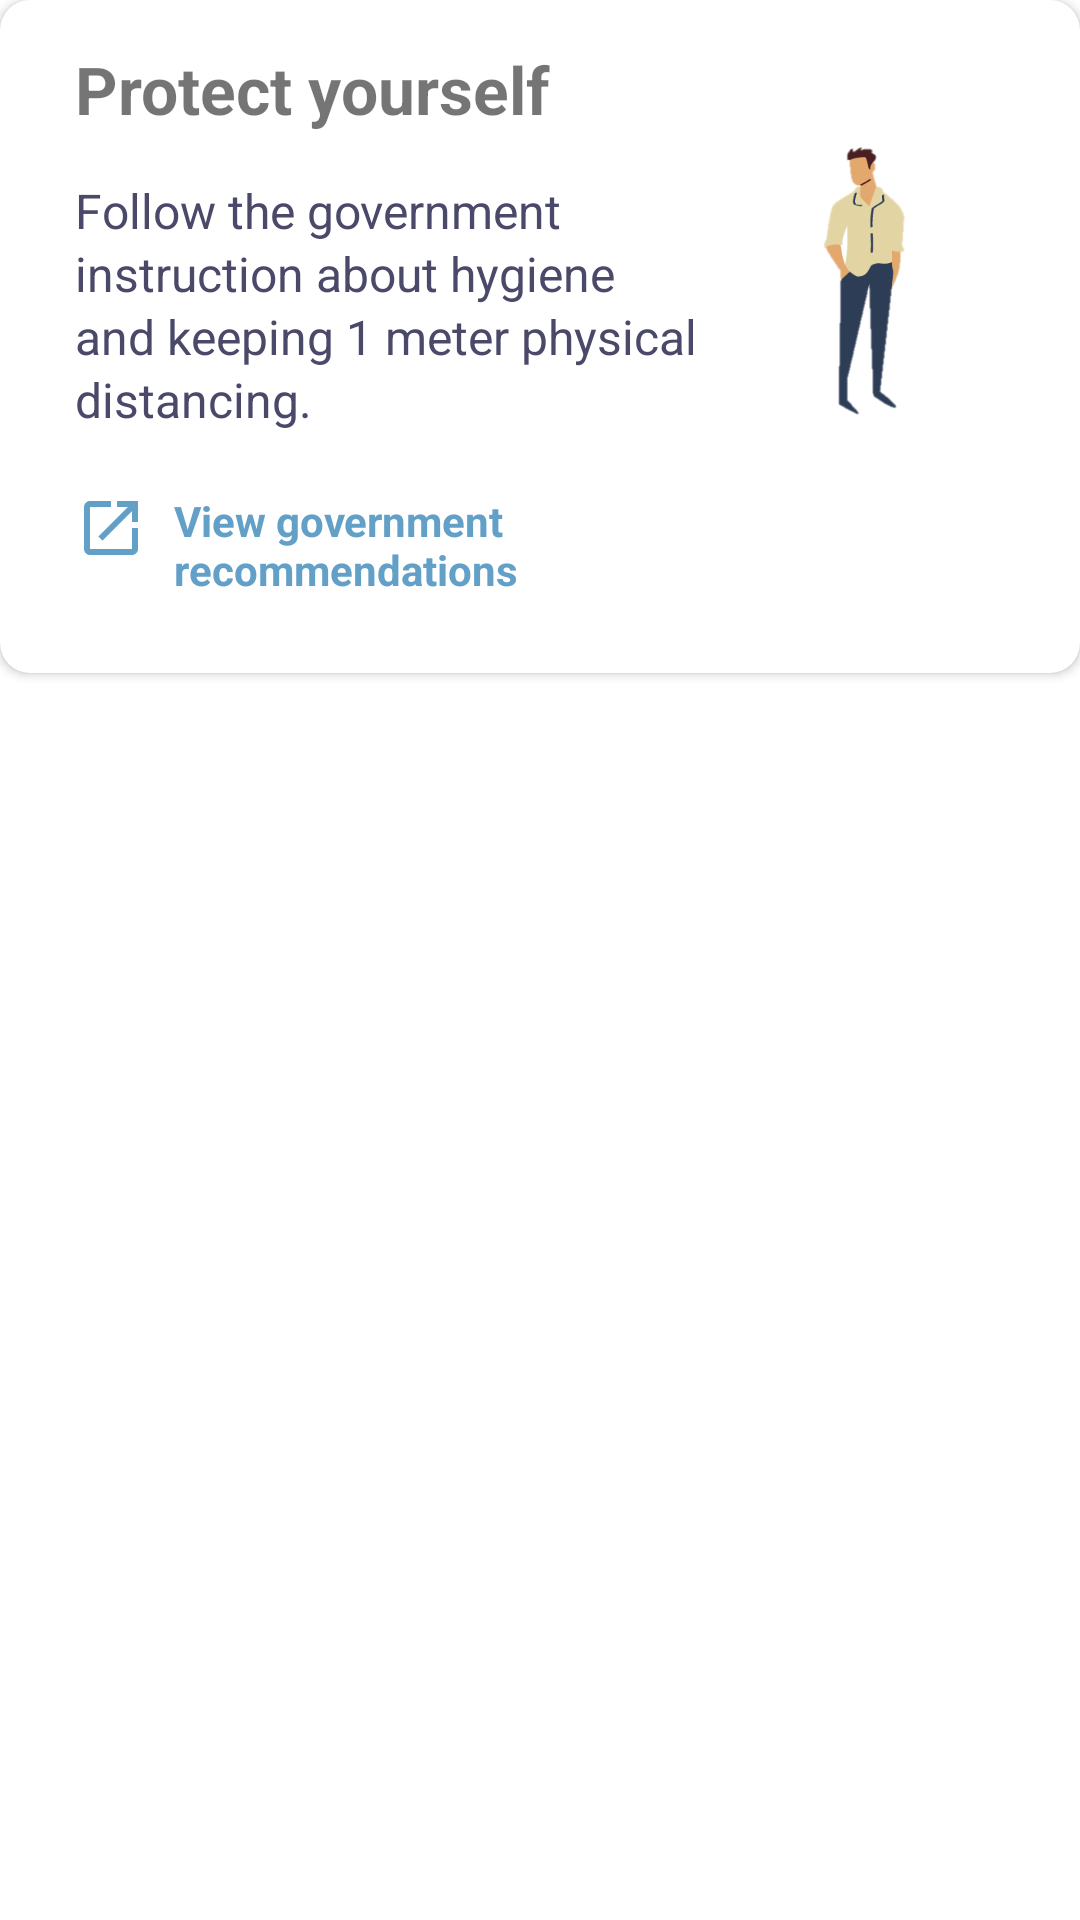

Locate icon controls on the screen. Image size 1080w x 1920h, boxes as box(x1, y1, x2, y2).
launch: box(84, 501, 138, 555)
person: box(824, 147, 905, 415)
